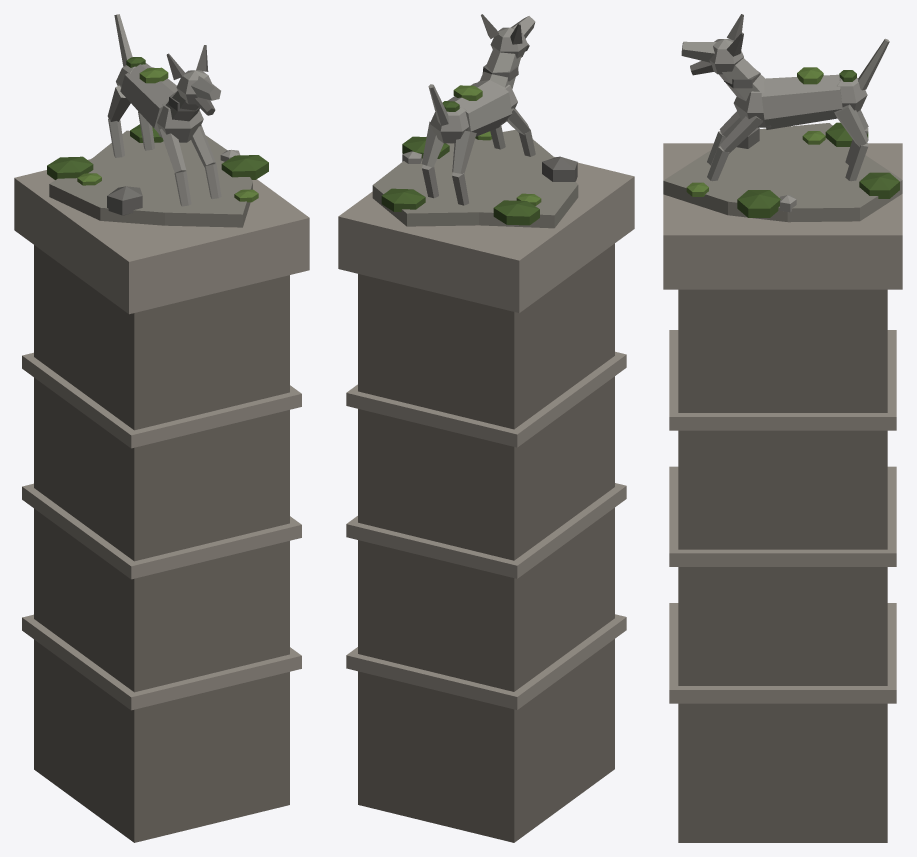
File: decor_petrified_dog.glb
3 views of the same model, side by side, from view 1: azimuth 30°, elevation 25°; view 2: azimuth 150°, elevation 25°; view 3: azimuth 270°, elevation 25° (orthographic). The views are drawn at different scales.
Parts seen in each view (by area): view 1: decor_petrified_dog; view 2: decor_petrified_dog; view 3: decor_petrified_dog.
Boxes of the visible parts, x1,y1,x2,y2 form: decor_petrified_dog: (14,14,309,842); decor_petrified_dog: (338,14,634,842); decor_petrified_dog: (663,14,902,842).
Size of the model in its own units: 1.44 by 5.73 by 1.59.
